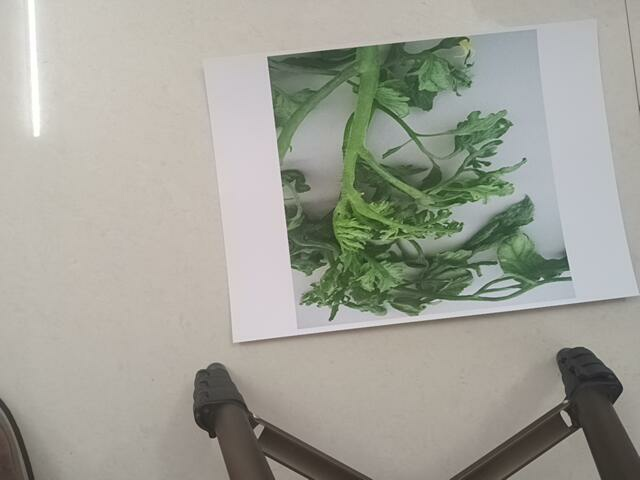Tomamto_Mosaic_virus: (268, 58, 591, 303)
